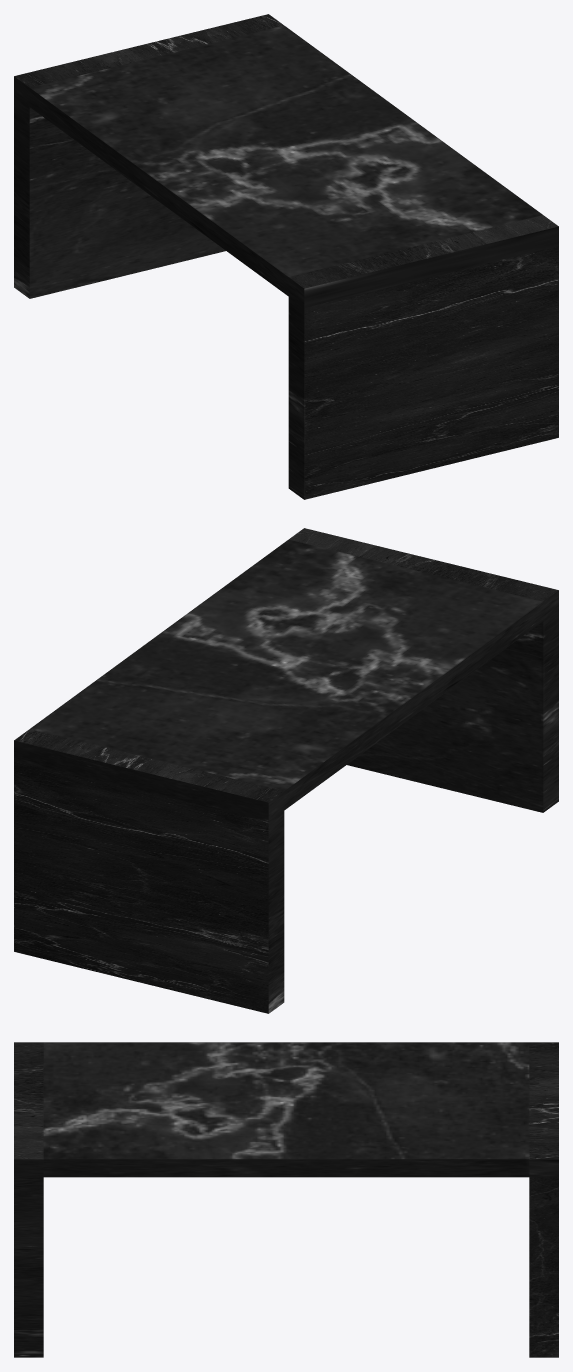
The model's file is mesa teste 1.fbx.
3 renders of one model, top to bottom at view 1: azimuth 30°, elevation 25°; view 2: azimuth 150°, elevation 25°; view 3: azimuth 270°, elevation 25°, orthographic. The views are drawn at different scales.
Visible parts, largest first — view 1: Table; view 2: Table; view 3: Table.
Boxes of the visible parts, box(x1,y1,x2,y2) form: Table: box(14, 14, 558, 499); Table: box(14, 528, 558, 1013); Table: box(14, 1042, 558, 1357).
Bounding box in the file's own units: 200 × 158 × 395.
